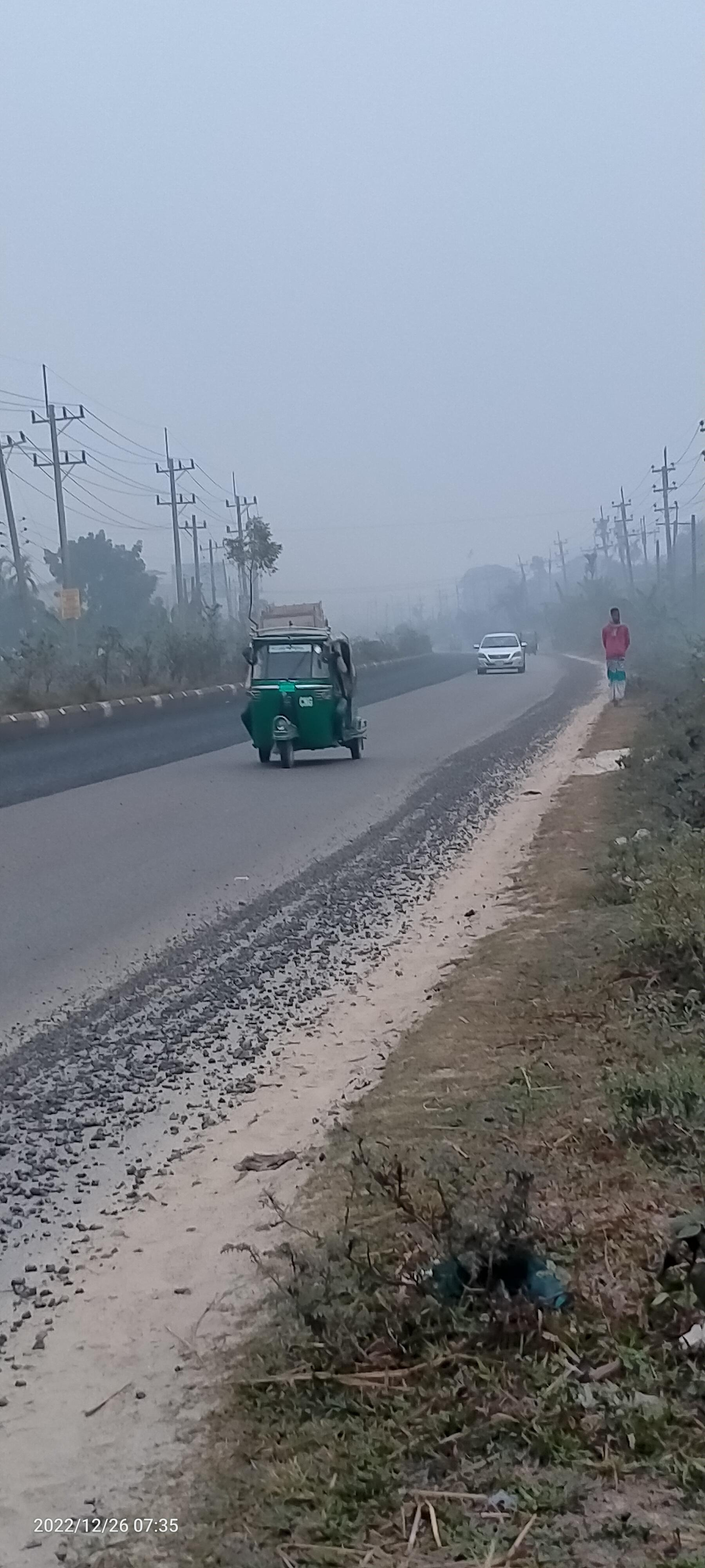Car: (470, 624, 529, 686)
